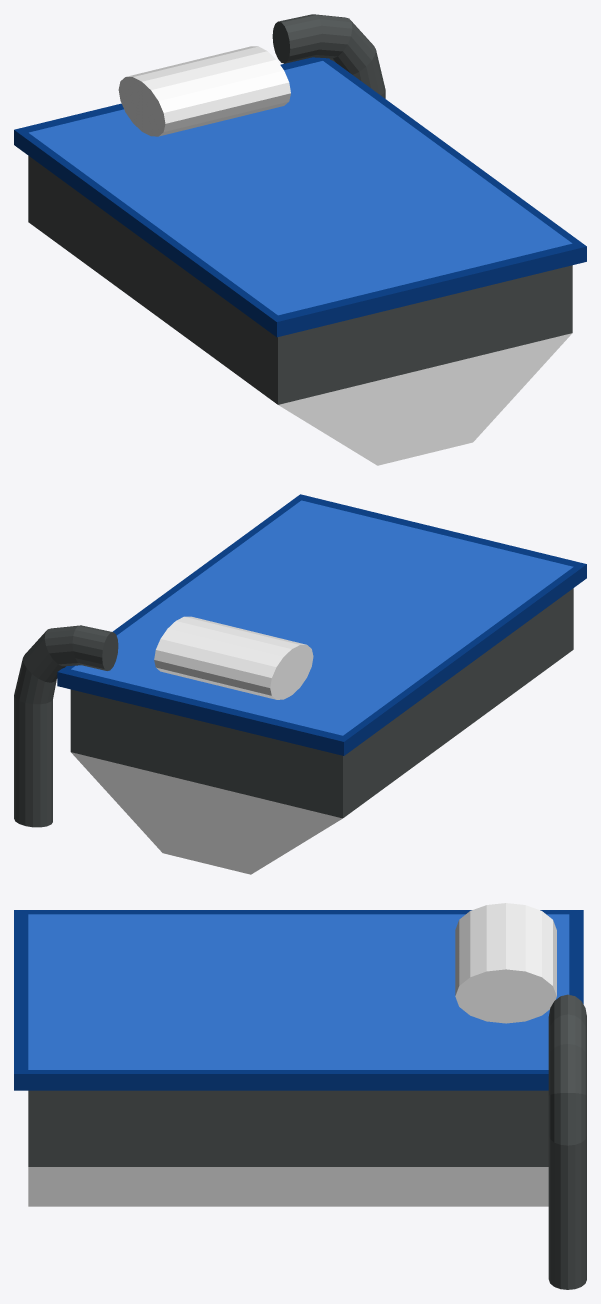
The model's file is Bed.fbx.
3 views of the same model, one above another, from view 1: azimuth 30°, elevation 25°; view 2: azimuth 150°, elevation 25°; view 3: azimuth 270°, elevation 25° (orthographic). The views are drawn at different scales.
Parts seen in each view (by area): view 1: Bed; view 2: Bed; view 3: Bed.
Part boxes in pixels (box(x1,y1,x2,y2)): Bed: box(14, 14, 586, 465); Bed: box(14, 494, 586, 874); Bed: box(14, 903, 586, 1289).
Size of the model in its own units: 355 by 212 by 448.
